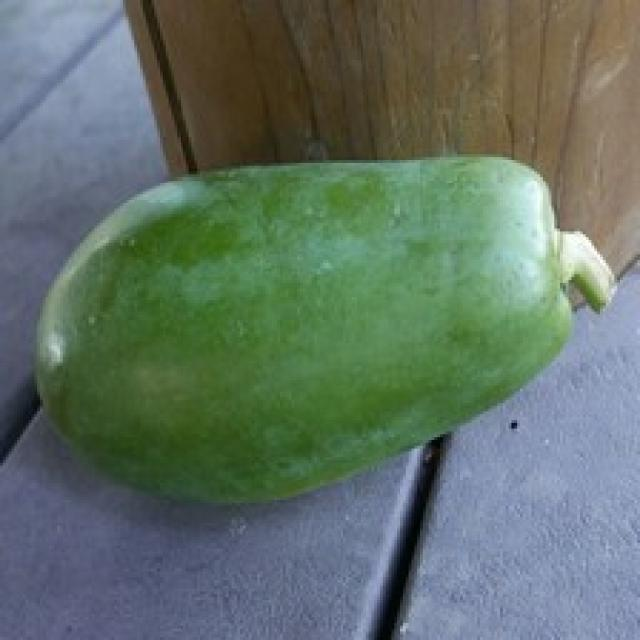Pepaya unrippen: (32, 150, 591, 518)
